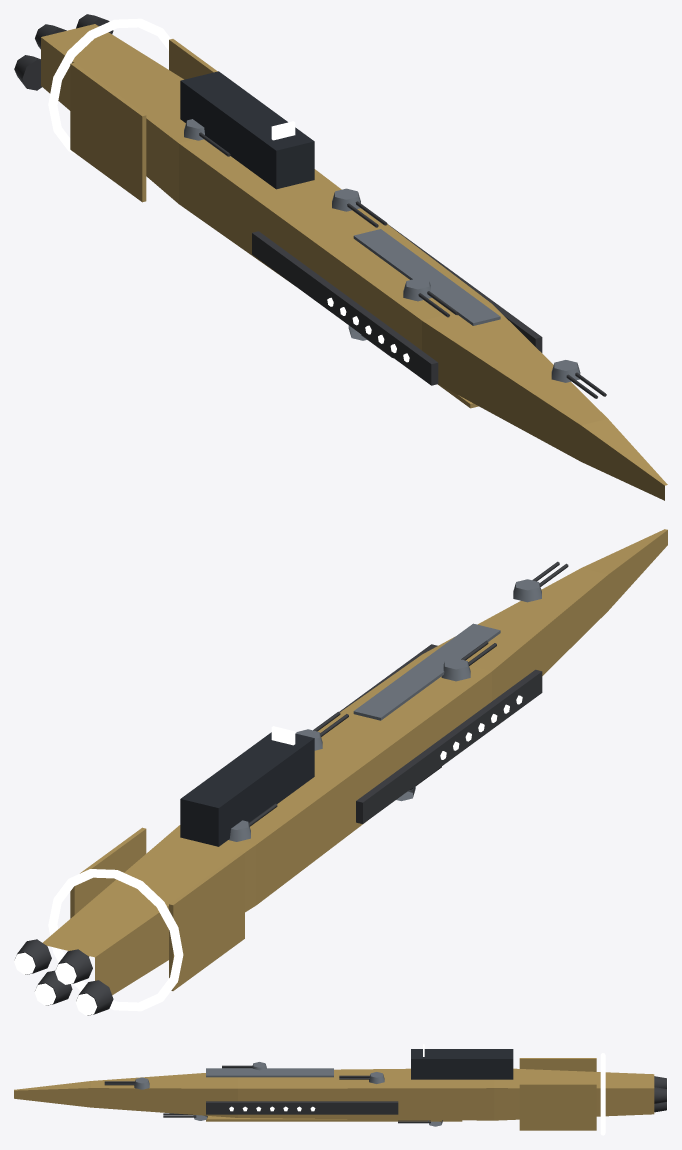
File: space_ship_destroyer_mk7.glb
3 views of the same model, one above another, from view 1: azimuth 30°, elevation 25°; view 2: azimuth 150°, elevation 25°; view 3: azimuth 270°, elevation 25° (orthographic). The views are drawn at different scales.
Parts seen in each view (by area): view 1: body, turret_4, turret_0, turret_2, engine_0; view 2: body, engine_0, engine_1, engine_3, engine_2, turret_0, turret_2; view 3: body, turret_0, turret_4, turret_2, engine_3, turret_1, turret_5.
Part boxes in pixels (<box>): body: <box>41,18,667,500</box>; turret_4: <box>332,188,387,227</box>; turret_0: <box>551,360,606,398</box>; turret_2: <box>403,278,458,317</box>; engine_0: <box>14,55,41,90</box>; body: <box>42,529,667,1011</box>; engine_0: <box>75,980,113,1015</box>; engine_1: <box>55,949,92,984</box>; engine_3: <box>14,939,51,974</box>; engine_2: <box>34,970,72,1005</box>; turret_0: <box>513,561,568,602</box>; turret_2: <box>441,640,496,681</box>; body: <box>14,1044,654,1135</box>; turret_0: <box>104,1077,149,1089</box>; turret_4: <box>339,1072,384,1083</box>; turret_2: <box>222,1062,266,1070</box>; engine_3: <box>654,1087,667,1103</box>; turret_1: <box>163,1113,207,1120</box>; turret_5: <box>398,1120,442,1126</box>.
Size of what is drawn, in the model's own units: 9.8 by 11.05 by 77.3.
